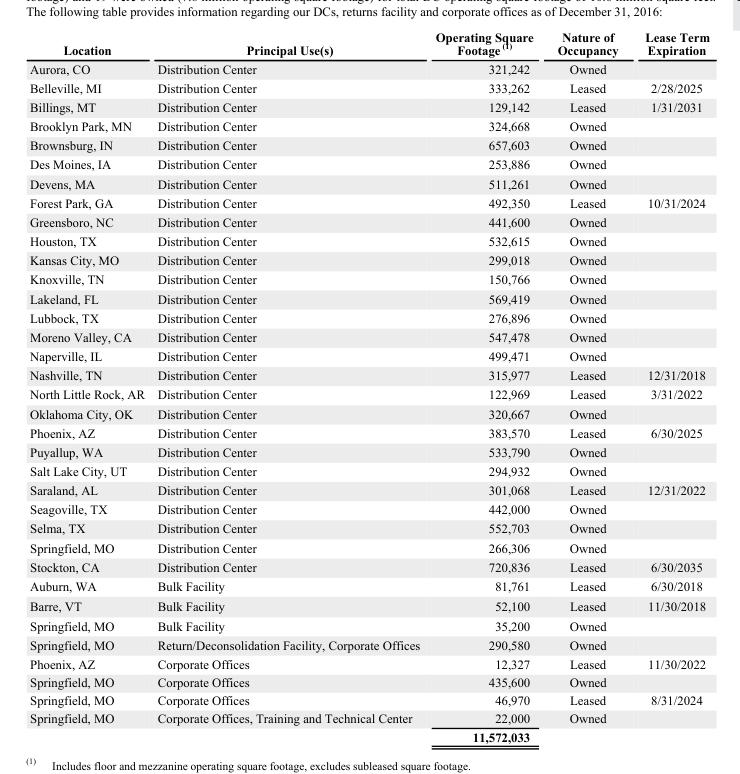table: (29, 29, 709, 743)
table column: (150, 29, 426, 743), (29, 29, 150, 743), (426, 29, 544, 743), (544, 29, 630, 743), (630, 29, 709, 743)
table column header: (29, 29, 709, 58)
table row: (29, 29, 709, 58), (29, 77, 709, 97), (29, 192, 709, 212), (29, 307, 709, 327), (29, 441, 709, 461), (29, 556, 709, 576), (29, 595, 709, 615), (29, 58, 709, 77), (29, 97, 709, 116), (29, 116, 709, 135), (29, 135, 709, 154), (29, 154, 709, 173), (29, 173, 709, 192), (29, 212, 709, 231), (29, 231, 709, 250), (29, 250, 709, 269), (29, 269, 709, 288), (29, 288, 709, 307), (29, 327, 709, 346), (29, 346, 709, 365), (29, 365, 709, 384), (29, 384, 709, 403), (29, 403, 709, 422), (29, 422, 709, 441), (29, 461, 709, 480), (29, 480, 709, 499), (29, 499, 709, 518), (29, 518, 709, 537), (29, 537, 709, 556), (29, 576, 709, 595), (29, 615, 709, 634), (29, 634, 709, 653), (29, 653, 709, 672), (29, 672, 709, 690), (29, 690, 709, 708), (29, 708, 709, 726), (29, 726, 709, 743)
table spanning cell: (29, 708, 150, 743)
